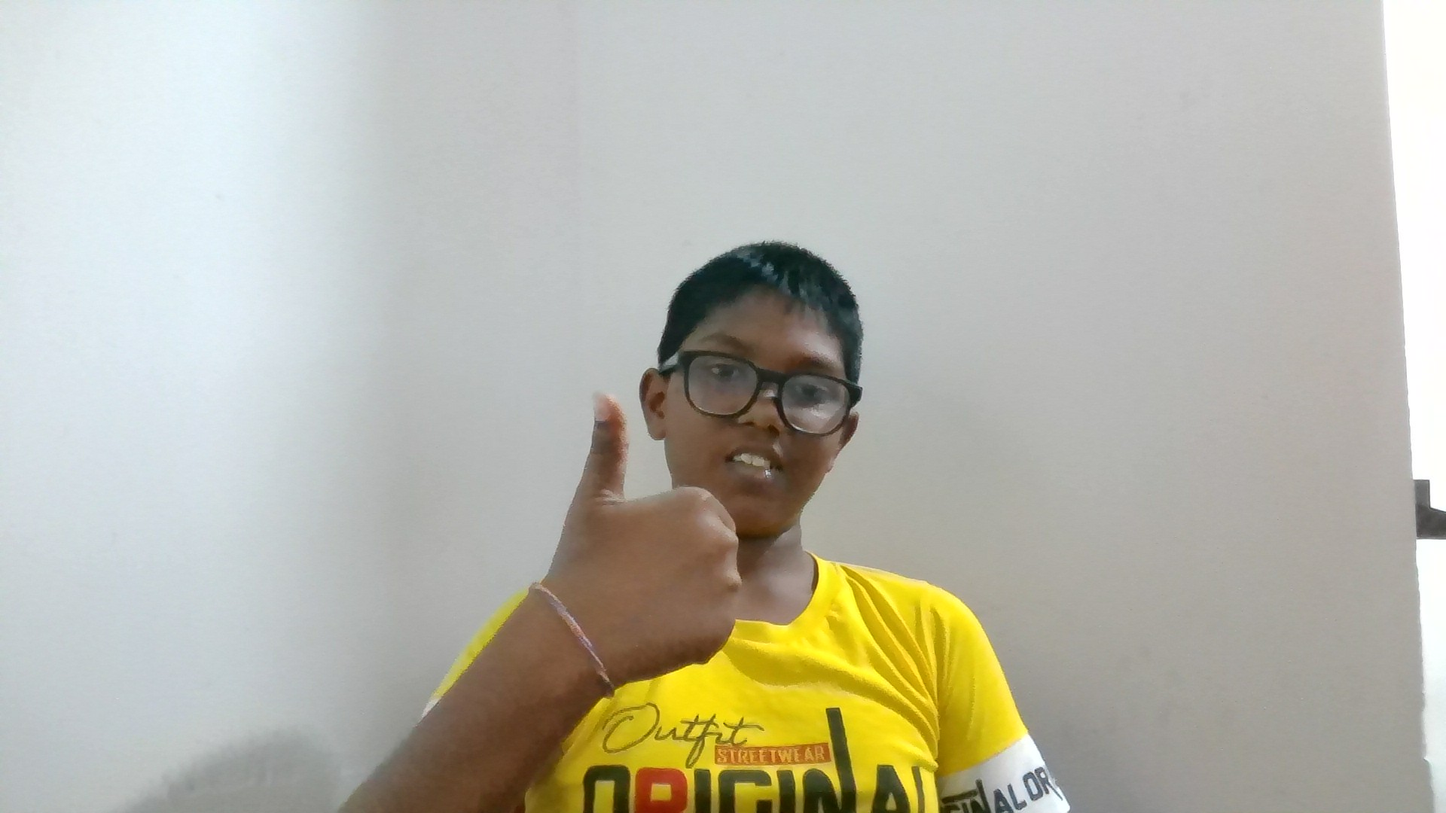Thumbs Up: (480, 348, 764, 754)
